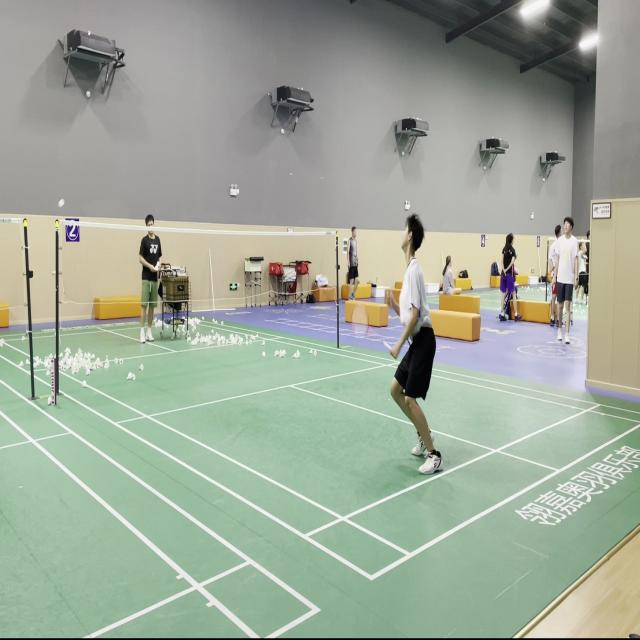shuttlecock: (58, 198, 65, 208)
